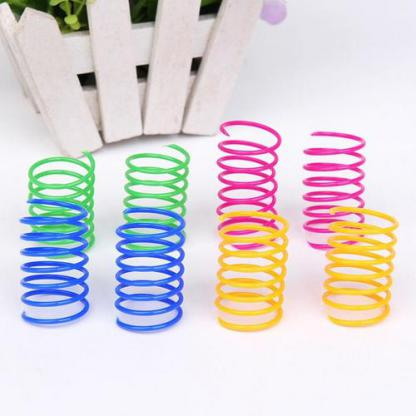FOD: (318, 202, 402, 330), (112, 205, 188, 334), (18, 196, 90, 331), (213, 208, 289, 334), (214, 116, 282, 251), (299, 128, 370, 252), (121, 138, 191, 252), (27, 146, 95, 260)
